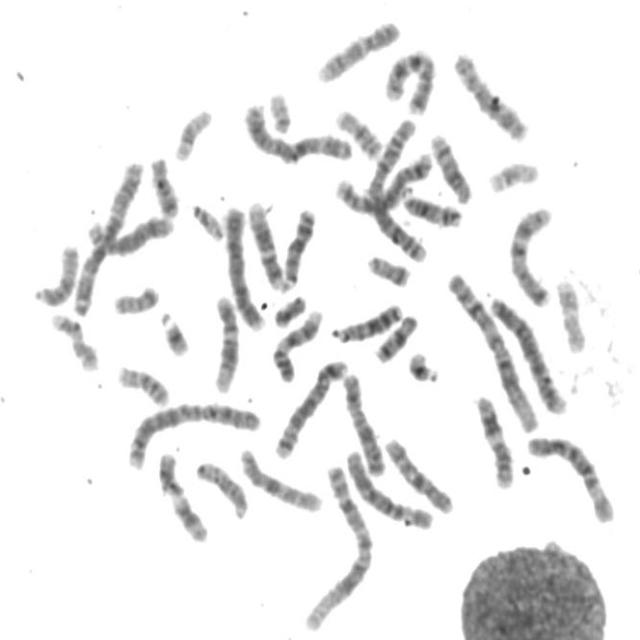A1: (440, 263, 542, 436), (297, 453, 376, 635)
A2: (120, 392, 263, 471), (362, 110, 430, 266)
A3: (66, 152, 146, 317), (236, 97, 355, 165)
B4: (483, 287, 570, 416), (218, 197, 269, 333)
B5: (268, 350, 350, 461), (330, 144, 436, 216)
C10: (232, 440, 325, 515), (379, 430, 456, 516)
C11: (151, 444, 211, 545), (468, 388, 516, 490)
C12: (243, 194, 286, 290), (206, 288, 241, 394)
C6: (520, 427, 617, 525), (339, 442, 437, 531)
C7: (503, 199, 556, 309), (378, 41, 438, 116)
C8: (447, 45, 531, 144), (81, 206, 176, 256)
C9: (311, 12, 403, 84), (266, 302, 326, 384)
D13: (275, 200, 318, 291), (327, 295, 404, 344)
D14: (424, 126, 474, 205), (394, 182, 465, 230)
D15: (190, 453, 250, 521), (27, 236, 81, 308)
E16: (329, 101, 384, 160), (111, 358, 171, 408)
E17: (44, 306, 100, 373), (550, 271, 589, 355)
E18: (370, 307, 420, 364), (144, 148, 181, 218)
F19: (168, 100, 215, 163), (482, 153, 542, 195)
F20: (107, 277, 161, 317), (362, 247, 412, 288)
G21: (154, 303, 193, 358), (402, 344, 442, 384)
G22: (185, 195, 226, 242), (263, 83, 294, 135)
X: (337, 365, 388, 477)
Y: (267, 286, 308, 329)
